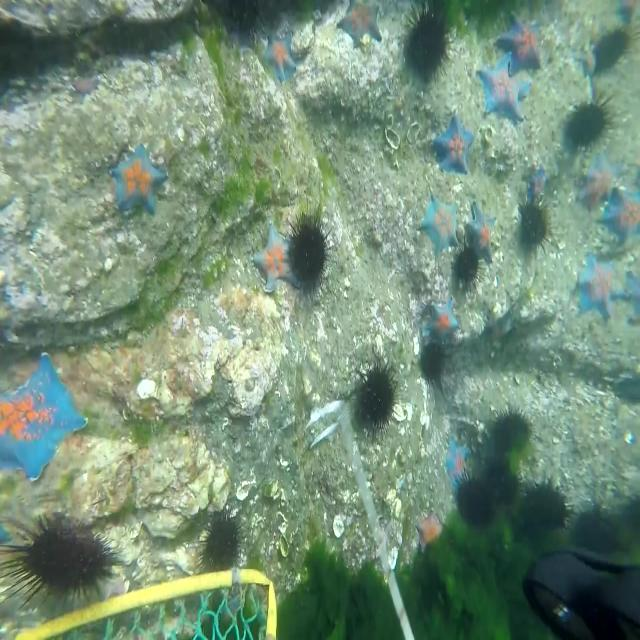echinus: (0, 501, 116, 609), (286, 200, 330, 294), (403, 0, 450, 87), (515, 479, 575, 546), (355, 352, 400, 438), (191, 506, 244, 576), (566, 91, 619, 158), (575, 501, 626, 562), (515, 194, 559, 264), (480, 446, 518, 514), (449, 464, 487, 527), (588, 22, 632, 75), (493, 405, 532, 460), (416, 335, 446, 391), (450, 242, 483, 291), (229, 0, 264, 43)
starfish: (0, 357, 89, 482), (475, 52, 535, 129), (108, 139, 166, 210), (575, 246, 625, 322), (252, 216, 299, 293), (492, 10, 543, 70), (578, 152, 624, 216), (415, 190, 457, 254), (599, 182, 640, 242), (434, 111, 474, 171), (260, 31, 298, 89), (337, 0, 382, 48), (441, 434, 472, 496), (422, 295, 458, 339), (613, 270, 640, 321), (416, 513, 446, 552), (521, 163, 549, 200), (575, 38, 595, 76), (71, 73, 96, 98)
